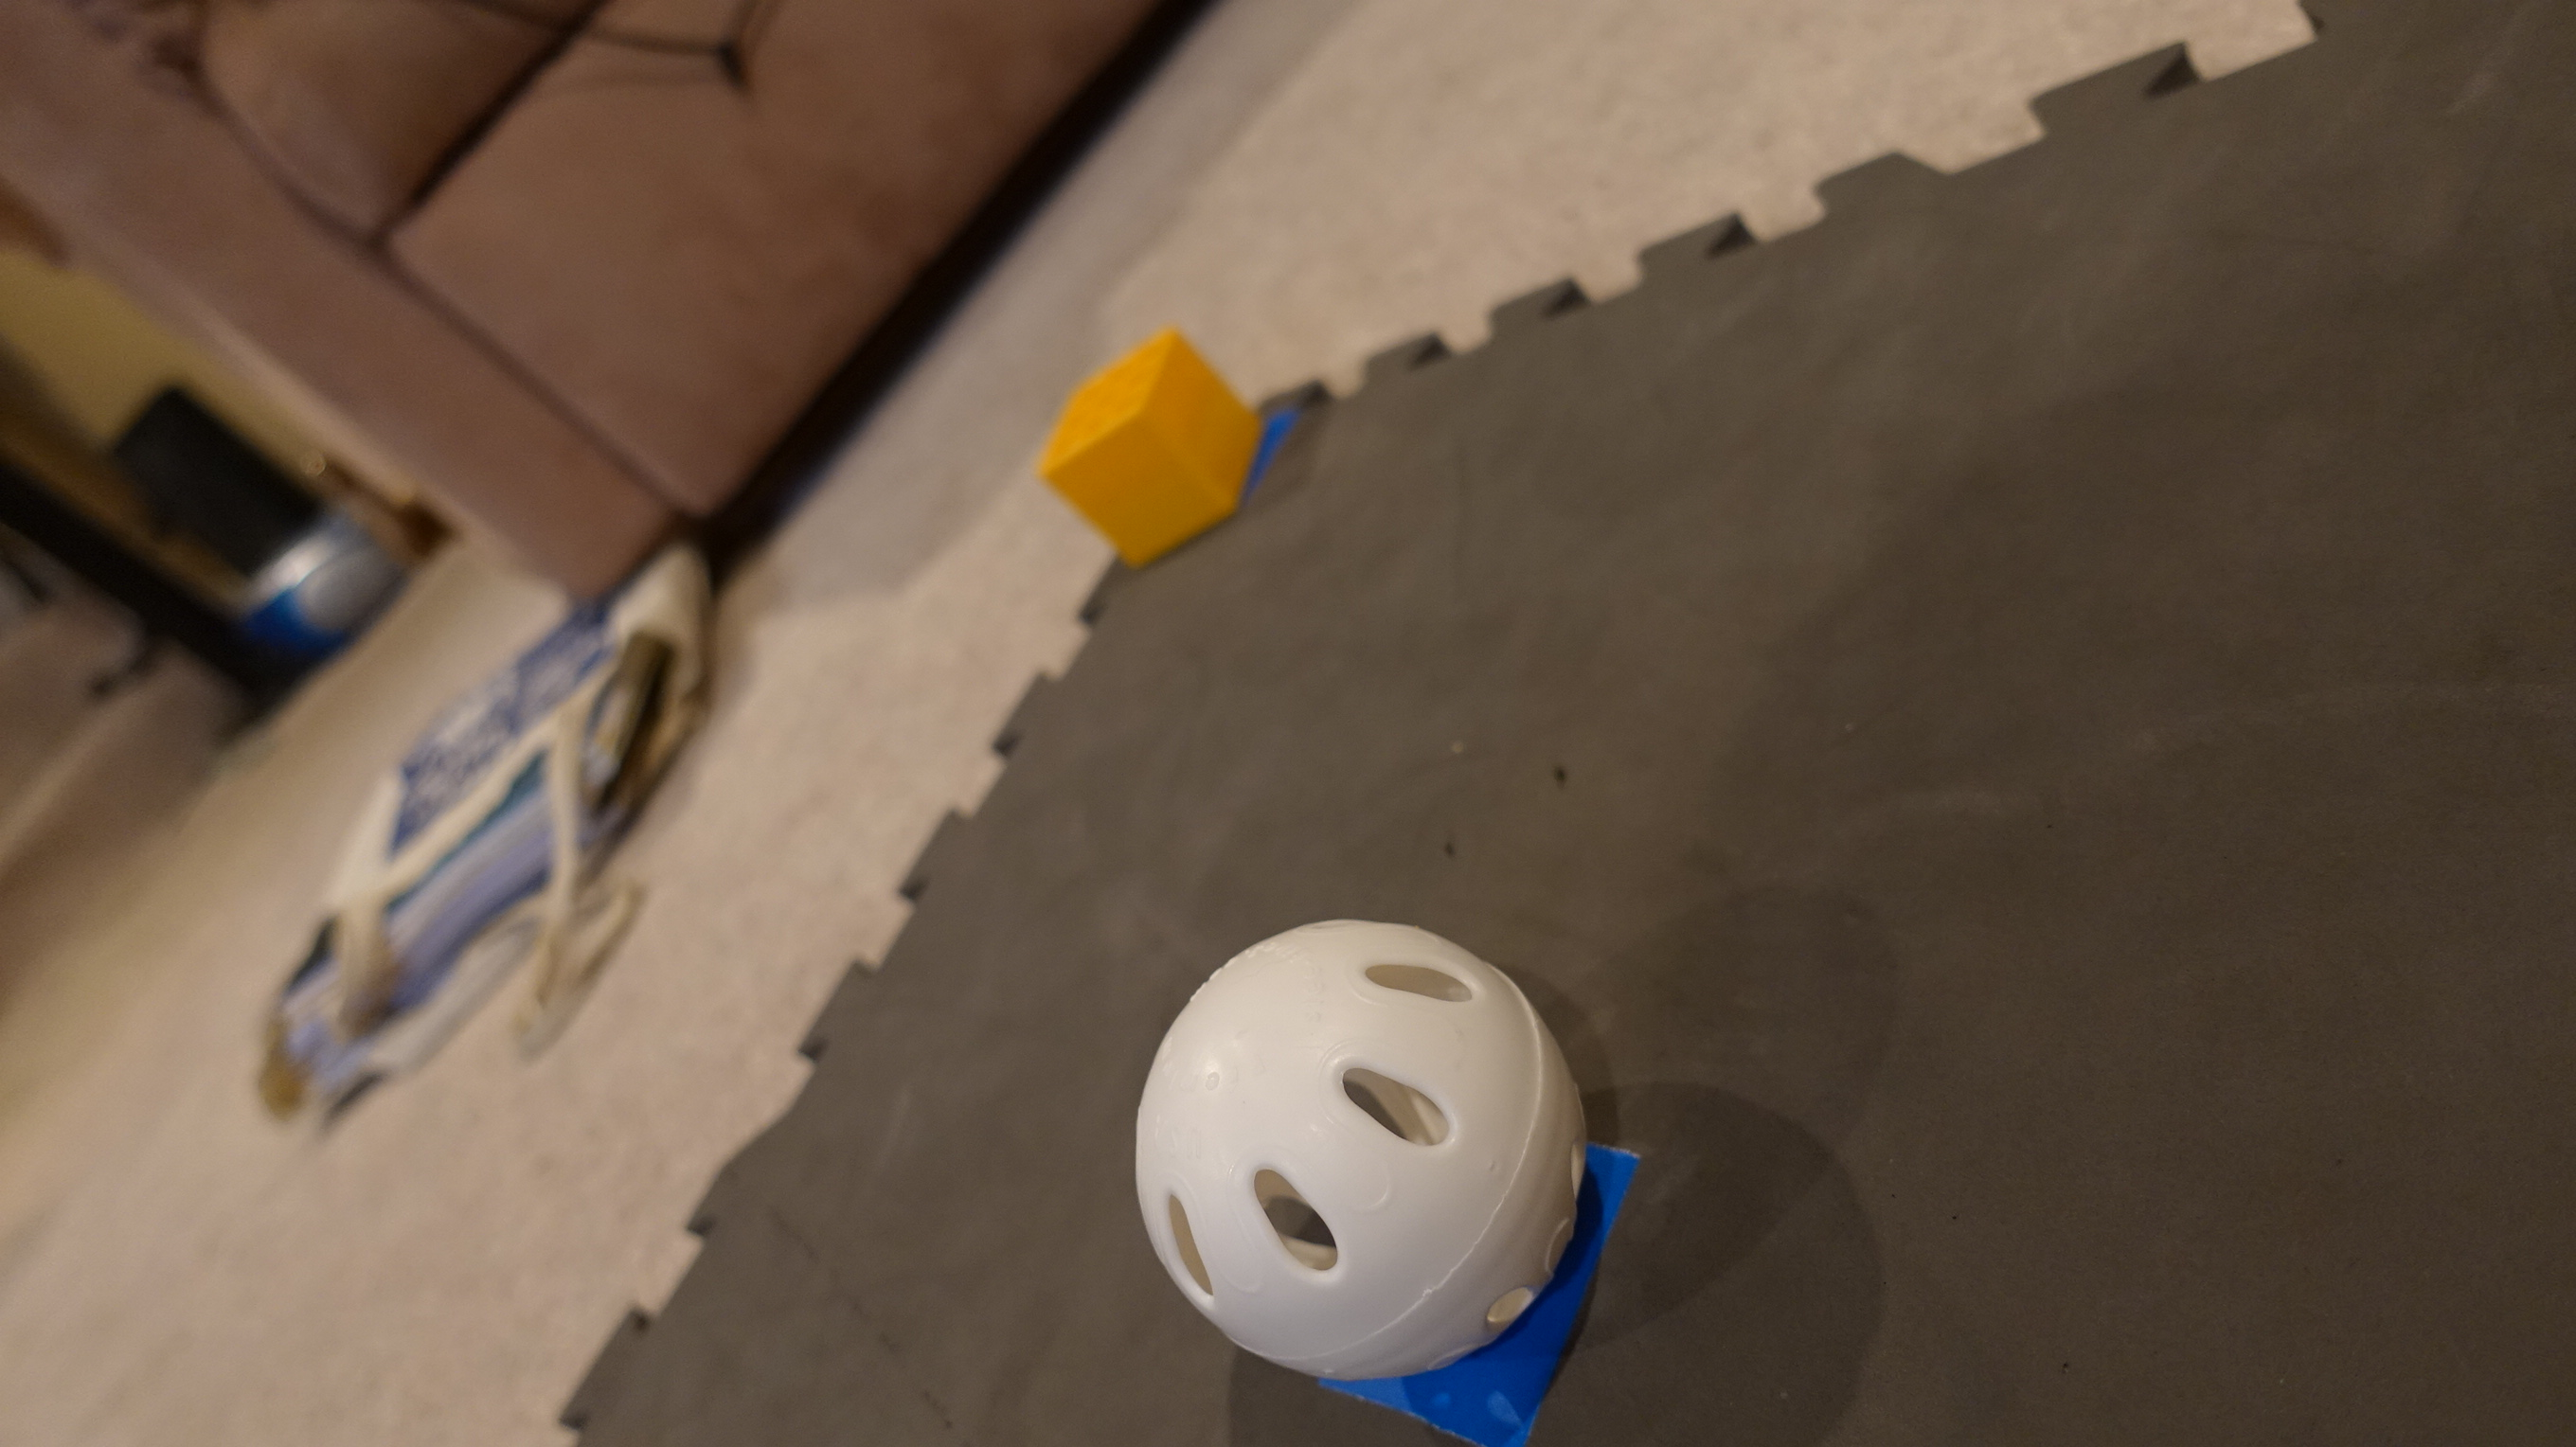gold: (1028, 325, 1269, 564)
silver: (1123, 916, 1596, 1385)
